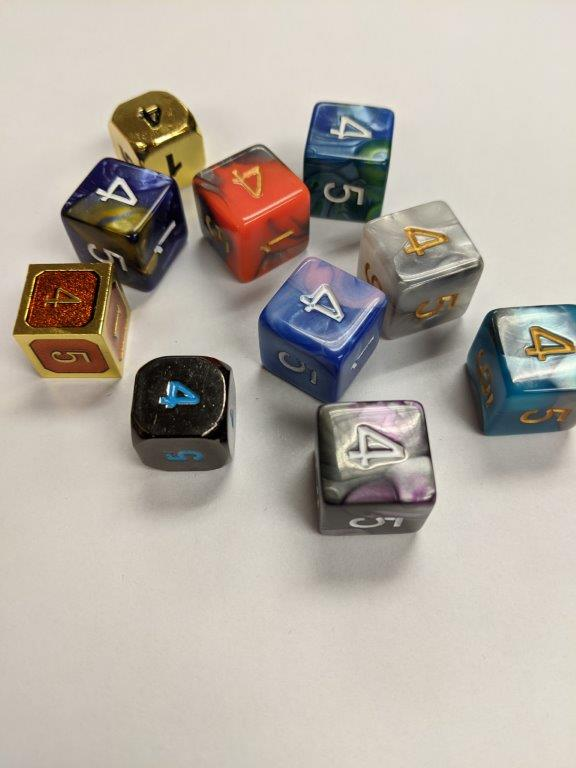d6-4: (259, 254, 386, 399), (61, 157, 194, 290), (314, 399, 437, 541), (192, 140, 312, 278), (362, 199, 483, 335), (14, 261, 127, 385), (474, 302, 576, 438), (133, 356, 237, 471), (303, 99, 396, 224), (105, 91, 206, 192)
